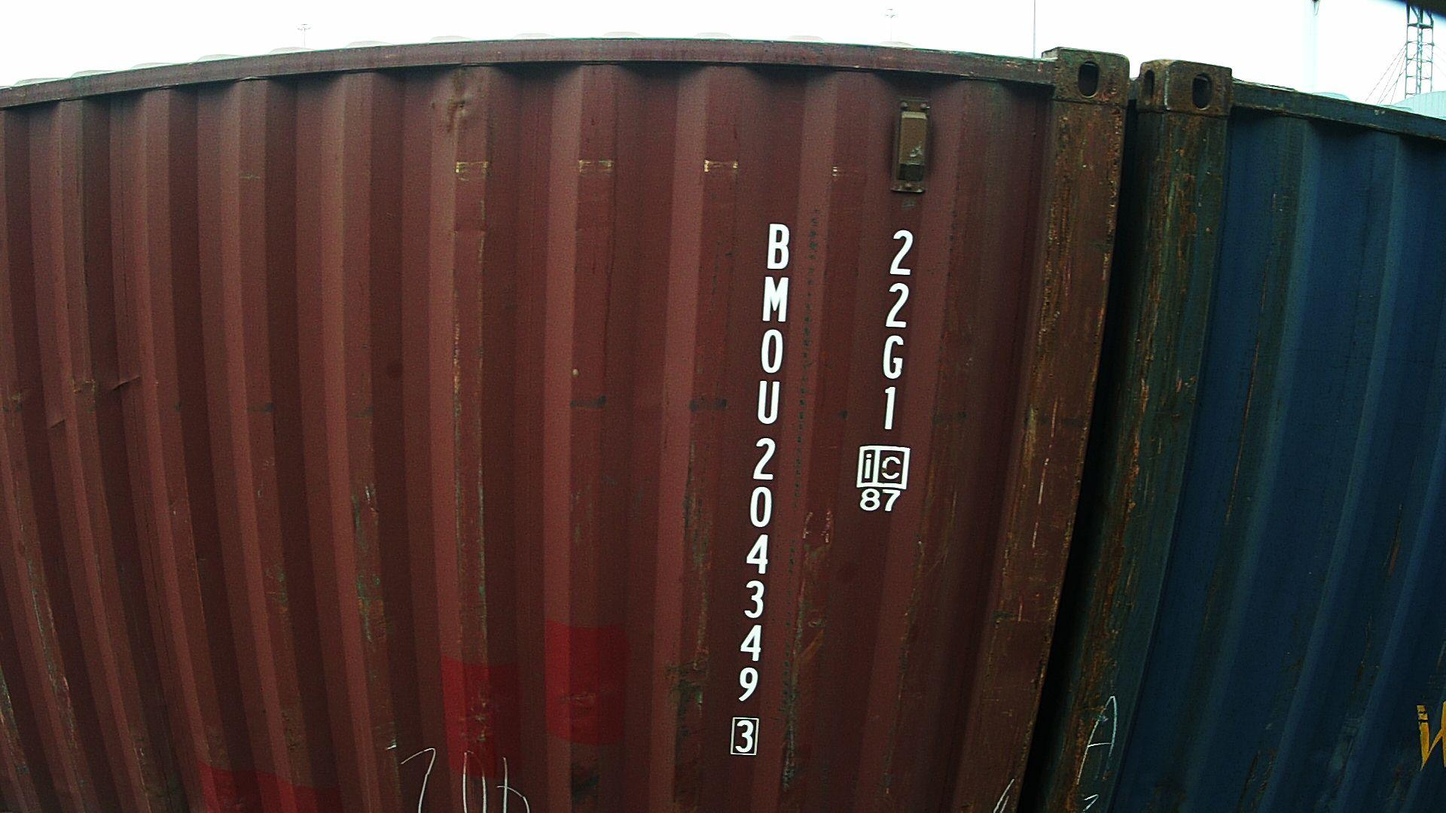container-numbers: (725, 215, 795, 763), (869, 224, 920, 434)
